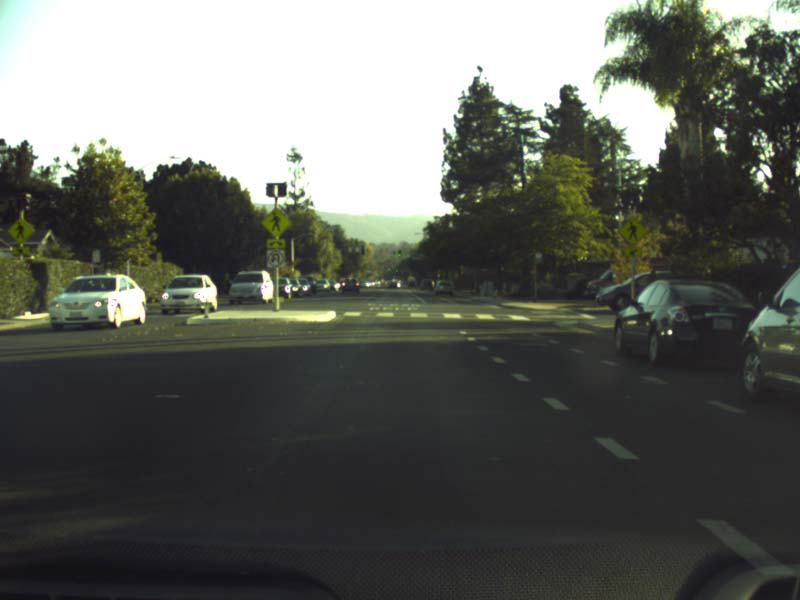Green: (394, 266, 398, 273), (397, 249, 401, 256)
